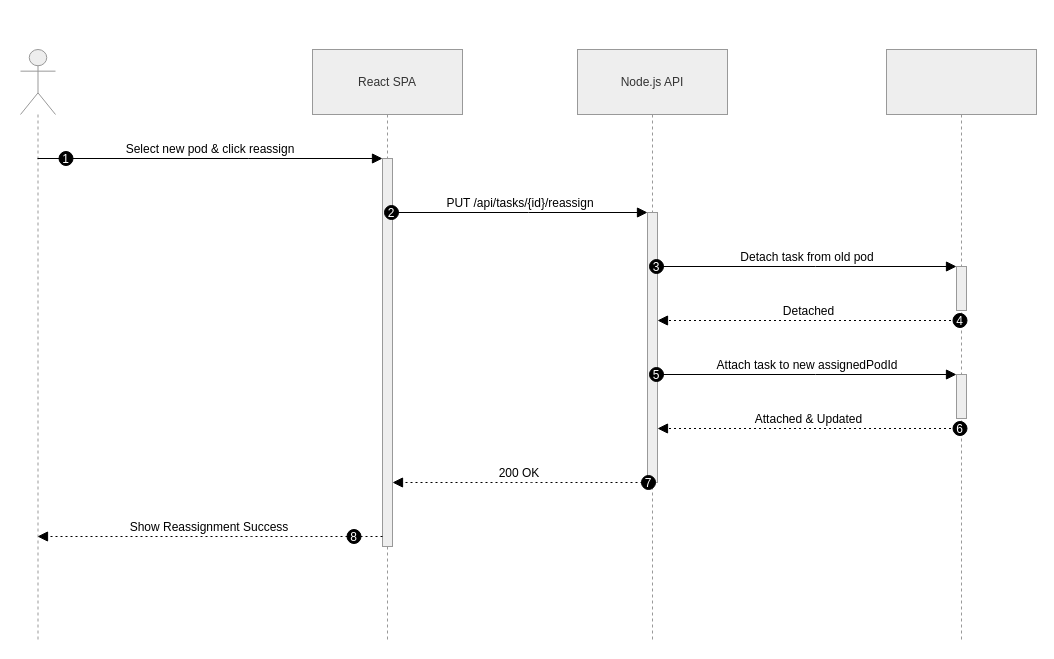
Some shapes in this 1054 by 659 pixel diagram are drawn without their labels. The shapes that lost their labels are listed below. From the top down, each one's box as (x1, y1, x2, y2) in pixels, then its label:
(20, 48, 56, 642): Product Owner
(886, 48, 1036, 642): MongoDB
